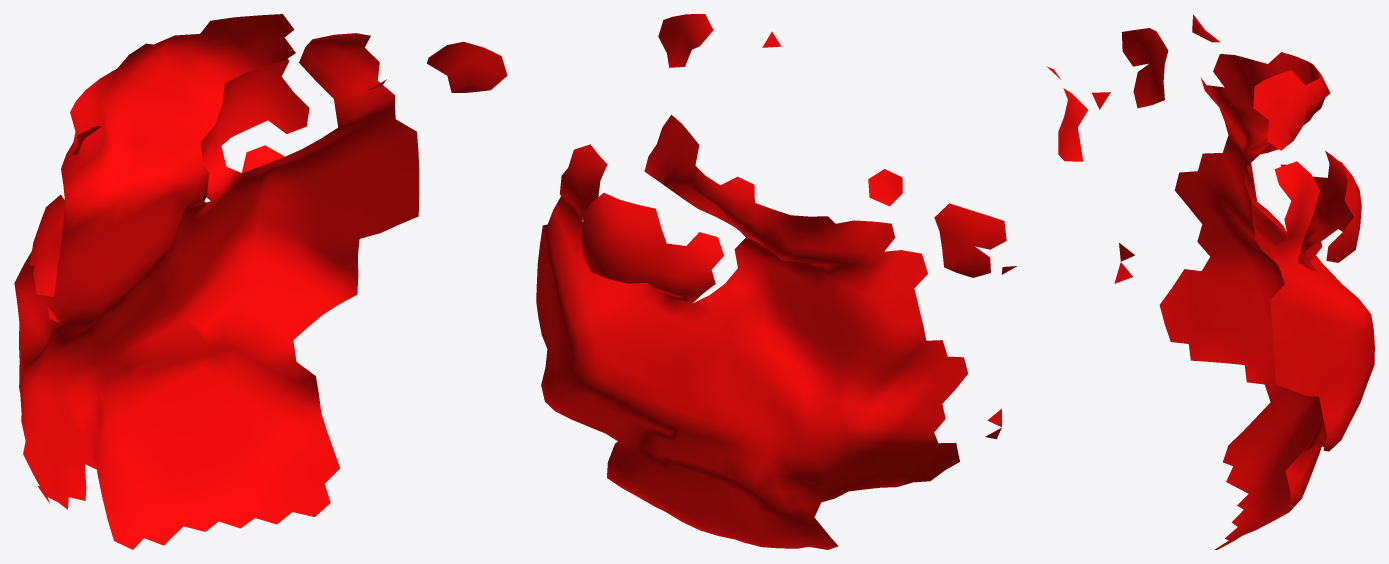
Rendered from SM_GPUI_RockBB_70.fbx.
The picture shows the model from 3 angles, left to right: view 1: azimuth 30°, elevation 25°; view 2: azimuth 150°, elevation 25°; view 3: azimuth 270°, elevation 25°; orthographic projection. The views are drawn at different scales.
Parts seen in each view (by area): view 1: SM_GPUI_RockBB_70; view 2: SM_GPUI_RockBB_70; view 3: SM_GPUI_RockBB_70.
Part boxes in pixels (box(x1,y1,x2,y2)): SM_GPUI_RockBB_70: box(14, 14, 507, 549); SM_GPUI_RockBB_70: box(536, 14, 1016, 549); SM_GPUI_RockBB_70: box(1046, 14, 1374, 549).
Bounding box in the file's own units: 1028 × 1089 × 664.
